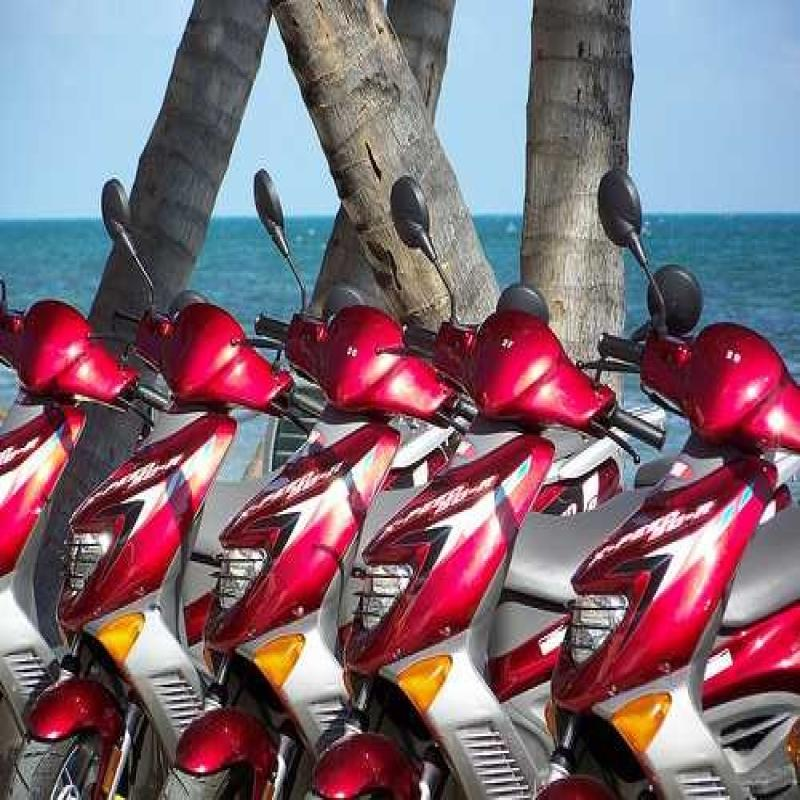bike: (83, 263, 313, 793), (400, 274, 608, 800), (600, 306, 800, 800), (220, 245, 391, 797), (8, 264, 136, 646)
